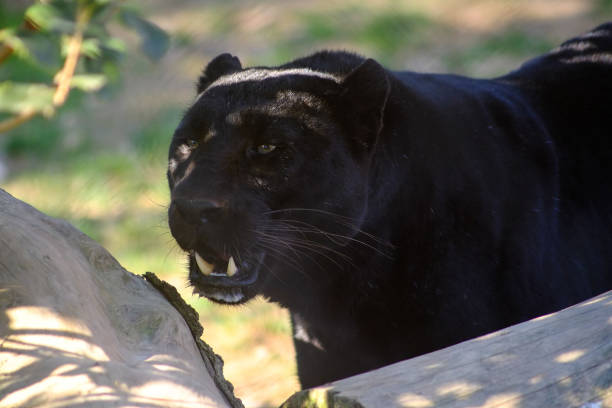panther: (132, 41, 414, 327)
